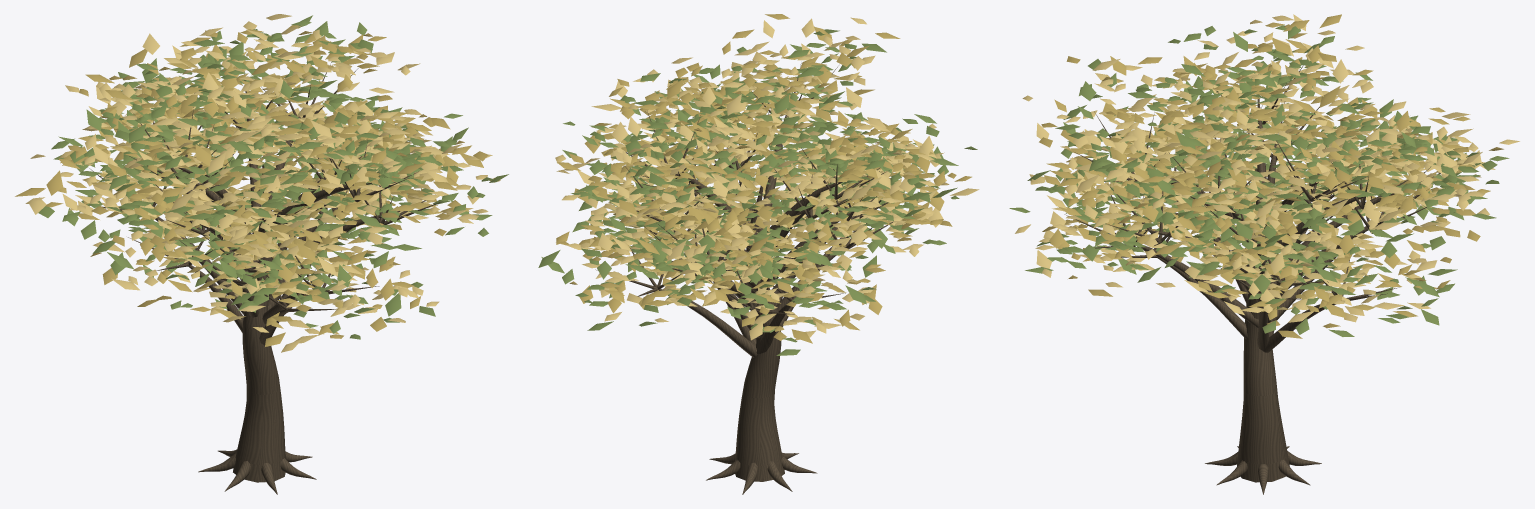
The model's file is golden_oak.glb.
The picture shows the model from 3 angles, left to right: view 1: azimuth 30°, elevation 25°; view 2: azimuth 150°, elevation 25°; view 3: azimuth 270°, elevation 25°; orthographic projection. The views are drawn at different scales.
Visible parts, largest first — view 1: Tree_leaf_green, Tree_leaf_gold, Tree_leaf_light, Tree_bark; view 2: Tree_leaf_gold, Tree_leaf_light, Tree_leaf_green, Tree_bark; view 3: Tree_leaf_light, Tree_leaf_green, Tree_leaf_gold, Tree_bark.
Boxes of the visible parts, x1,y1,x2,y2 form: Tree_leaf_green: (38,15,508,339); Tree_leaf_gold: (15,25,500,346); Tree_leaf_light: (25,14,492,352); Tree_bark: (86,62,442,494); Tree_leaf_gold: (556,14,971,343); Tree_leaf_light: (555,17,979,340); Tree_leaf_green: (538,29,977,355); Tree_bark: (595,63,903,494); Tree_leaf_light: (1015,14,1519,322); Tree_leaf_green: (1009,25,1509,336); Tree_leaf_gold: (1039,14,1503,338); Tree_bark: (1064,65,1440,494).
Size of the model in its own units: 5.64 by 6.17 by 7.09.
4 materials, 1 textured.
